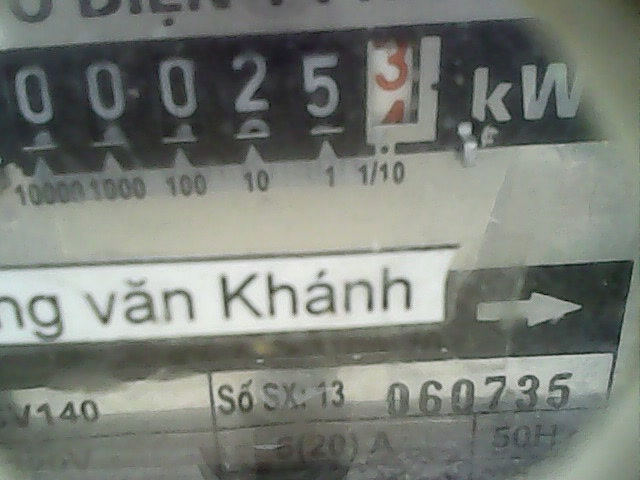phy_plate: (3, 29, 456, 157)
